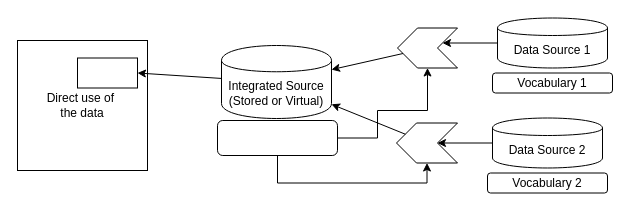
Some shapes in this 630 by 210 pixel diagram are drawn without their labels. Each missing label, with the centre of its shape:
"Common Vocabulary" goes at point (277, 138).
"query module" goes at point (107, 72).
